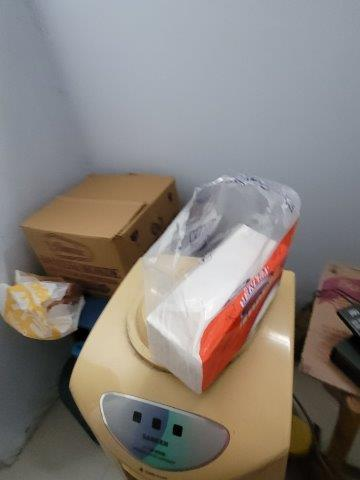kardus: (21, 170, 180, 289)
plastik: (121, 174, 301, 312)
